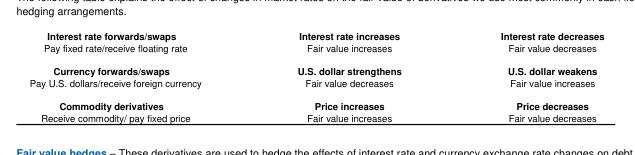table: (28, 29, 603, 123)
table column: (28, 29, 248, 123), (248, 29, 450, 123), (450, 29, 603, 123)
table column header: (28, 29, 603, 41)
table row: (28, 41, 603, 59), (28, 93, 603, 111), (28, 59, 603, 76), (28, 76, 603, 93), (28, 29, 603, 41), (28, 111, 603, 123)
